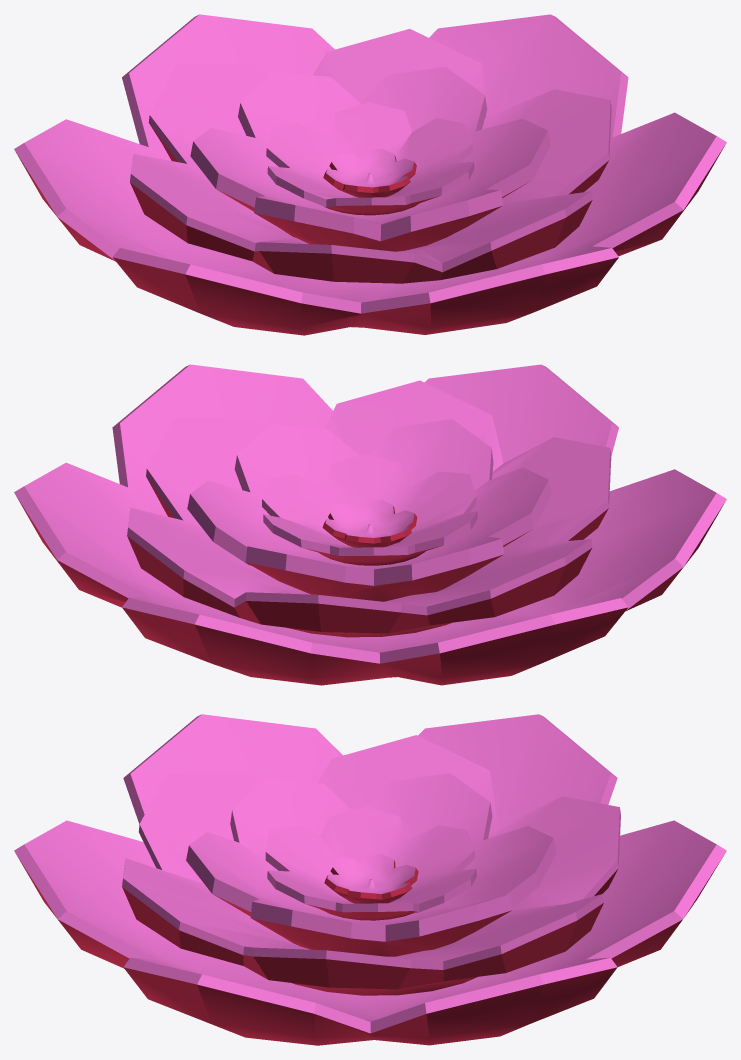
Rendered from flower_arvores.glb.
3 views of the same model, one above another, from view 1: azimuth 30°, elevation 25°; view 2: azimuth 150°, elevation 25°; view 3: azimuth 270°, elevation 25° (orthographic).
Visible parts, largest first — view 1: Object_3, Object_2; view 2: Object_3, Object_2; view 3: Object_3, Object_2.
Part boxes in pixels (<box>): Object_3: <box>14,14,726,313</box>; Object_2: <box>16,125,724,335</box>; Object_3: <box>14,364,726,663</box>; Object_2: <box>15,477,724,685</box>; Object_3: <box>14,714,726,1033</box>; Object_2: <box>15,853,723,1045</box>.
Bounding box in the file's own units: 2246 × 425 × 2395.
